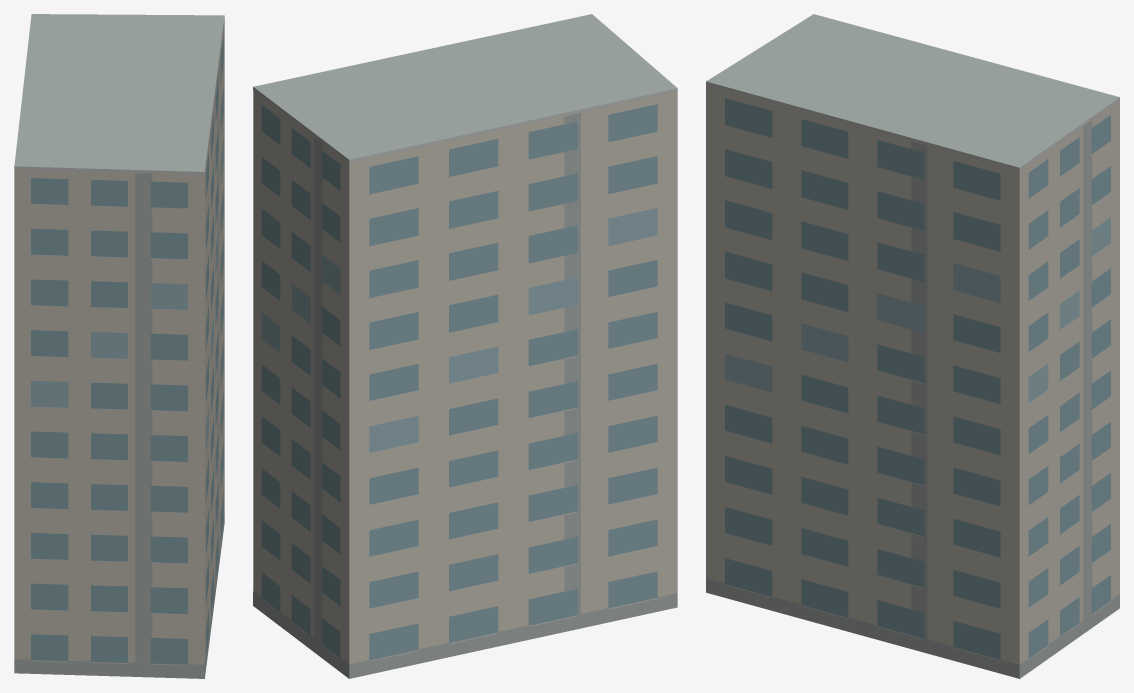
The model's file is residential-4aad64eb-0178-4bc0-89a6-820d0e7416cc.glb.
3 views of the same model, side by side, from view 1: azimuth 30°, elevation 25°; view 2: azimuth 150°, elevation 25°; view 3: azimuth 270°, elevation 25° (orthographic). The views are drawn at different scales.
Parts seen in each view (by area): view 1: residential-4aad64eb-0178-4bc0-89a6-820d0e7416cc.tmp; view 2: residential-4aad64eb-0178-4bc0-89a6-820d0e7416cc.tmp; view 3: residential-4aad64eb-0178-4bc0-89a6-820d0e7416cc.tmp.
Boxes of the visible parts, <box> form: residential-4aad64eb-0178-4bc0-89a6-820d0e7416cc.tmp: <box>14,14,224,678</box>; residential-4aad64eb-0178-4bc0-89a6-820d0e7416cc.tmp: <box>253,14,677,678</box>; residential-4aad64eb-0178-4bc0-89a6-820d0e7416cc.tmp: <box>706,14,1119,678</box>.
Size of the model in its own units: 23.23 by 36 by 26.42.
